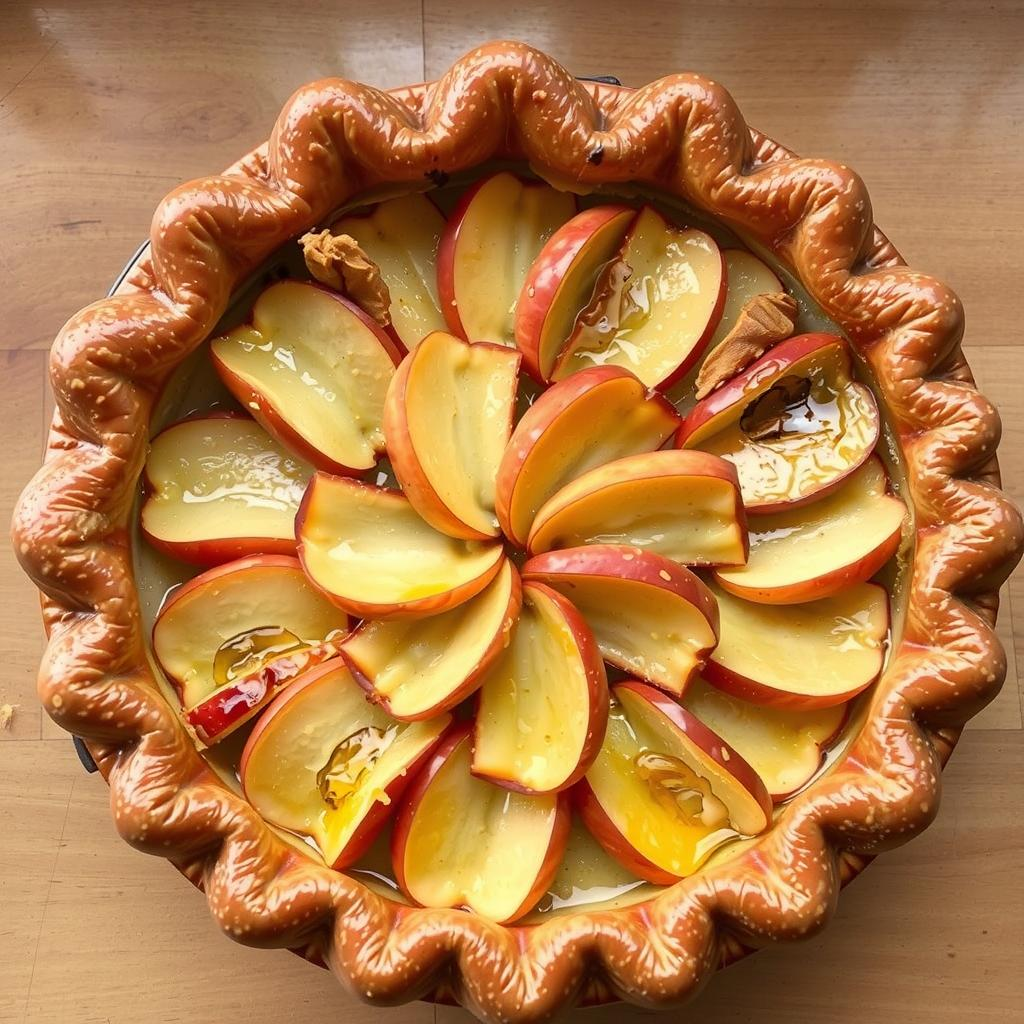pie: (3, 33, 1024, 1024)
